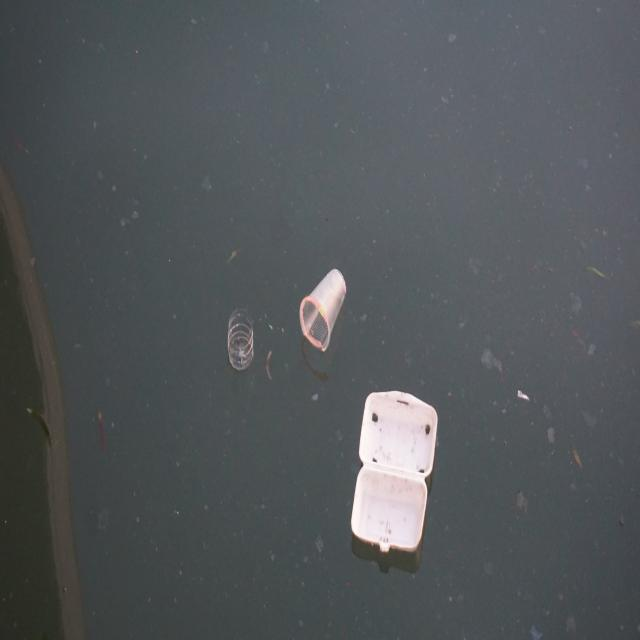Bungkus Makanan: (351, 385, 440, 558)
Bungkus Minuman: (300, 260, 352, 359)
